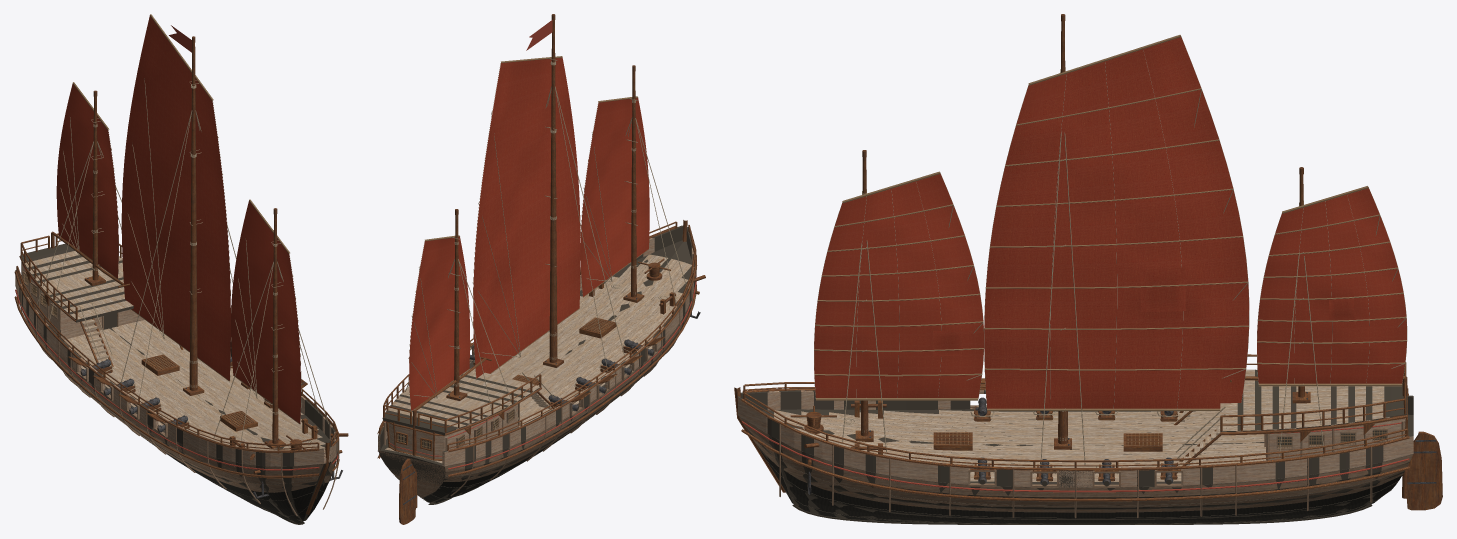
Rendered from fuchuan-lod2.glb.
3 renders of one model, left to right at view 1: azimuth 30°, elevation 25°; view 2: azimuth 150°, elevation 25°; view 3: azimuth 270°, elevation 25°, orthographic. The views are drawn at different scales.
Parts seen in each view (by area): view 1: sail_1, deck, hull, sail_0, sail_2, shadow_hull, deck_fittings, bulwark_rails, mast_timber_1, shadow_deck, sterncastle, mast_timber_0 (+6 smaller); view 2: sail_1, deck, sail_0, hull, sail_2, shadow_hull, deck_fittings, bulwark_rails, mast_timber_1, shadow_deck, mast_timber_0, stern_transom (+7 smaller); view 3: sail_1, hull, sail_0, sail_2, deck, shadow_hull, deck_fittings, bulwark_rails, shadow_deck, rudder_blade, sterncastle, rigging_1.
Boxes of the visible parts, bbox=[...] form: sail_1: bbox=[121, 14, 231, 381]; deck: bbox=[19, 251, 325, 450]; hull: bbox=[14, 270, 339, 524]; sail_0: bbox=[231, 199, 301, 424]; sail_2: bbox=[56, 82, 118, 278]; shadow_hull: bbox=[15, 270, 337, 522]; deck_fittings: bbox=[21, 262, 348, 498]; bulwark_rails: bbox=[16, 233, 338, 453]; mast_timber_1: bbox=[189, 43, 197, 390]; shadow_deck: bbox=[21, 243, 133, 322]; sterncastle: bbox=[23, 266, 144, 339]; mast_timber_0: bbox=[272, 214, 278, 443]; sail_1: bbox=[472, 56, 580, 378]; deck: bbox=[382, 254, 691, 463]; sail_0: bbox=[580, 96, 649, 297]; hull: bbox=[377, 220, 697, 504]; sail_2: bbox=[408, 235, 469, 411]; shadow_hull: bbox=[378, 225, 695, 502]; deck_fittings: bbox=[383, 258, 705, 460]; bulwark_rails: bbox=[379, 221, 695, 450]; mast_timber_1: bbox=[549, 20, 557, 362]; shadow_deck: bbox=[383, 374, 540, 435]; mast_timber_0: bbox=[631, 71, 636, 297]; stern_transom: bbox=[388, 422, 444, 458]; sail_1: bbox=[984, 35, 1249, 411]; hull: bbox=[734, 387, 1413, 524]; sail_0: bbox=[814, 171, 984, 400]; sail_2: bbox=[1257, 186, 1407, 386]; deck: bbox=[774, 369, 1407, 481]; shadow_hull: bbox=[738, 390, 1413, 523]; deck_fittings: bbox=[790, 385, 1407, 494]; bulwark_rails: bbox=[743, 354, 1408, 467]; shadow_deck: bbox=[1220, 369, 1407, 432]; rudder_blade: bbox=[1406, 431, 1442, 510]; sterncastle: bbox=[1266, 418, 1404, 460]; rigging_1: bbox=[1040, 132, 1085, 465].
Size of the model in its own units: 10.4 by 26.66 by 33.57.
Materials: 13 (8 with a texture image).
